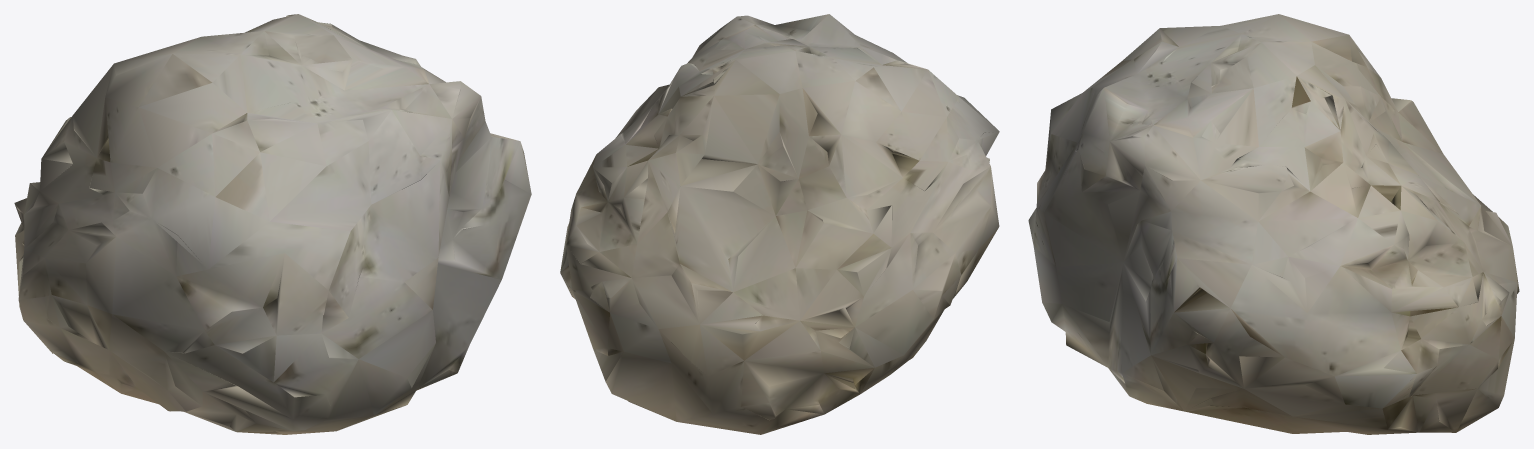
Rendered from rock-italy-travertine.glb.
3 views of the same model, side by side, from view 1: azimuth 30°, elevation 25°; view 2: azimuth 150°, elevation 25°; view 3: azimuth 270°, elevation 25° (orthographic). The views are drawn at different scales.
Parts seen in each view (by area): view 1: tripo_node_e82508a9-dc9c-41df-90a7-d38fc588de4f; view 2: tripo_node_e82508a9-dc9c-41df-90a7-d38fc588de4f; view 3: tripo_node_e82508a9-dc9c-41df-90a7-d38fc588de4f.
Boxes of the visible parts, <box> form: tripo_node_e82508a9-dc9c-41df-90a7-d38fc588de4f: <box>14,14,531,434</box>; tripo_node_e82508a9-dc9c-41df-90a7-d38fc588de4f: <box>560,14,999,434</box>; tripo_node_e82508a9-dc9c-41df-90a7-d38fc588de4f: <box>1028,14,1519,434</box>.
Bounding box in the file's own units: 1.24 × 1 × 1.26.
Materials: 1 (1 with a texture image).
